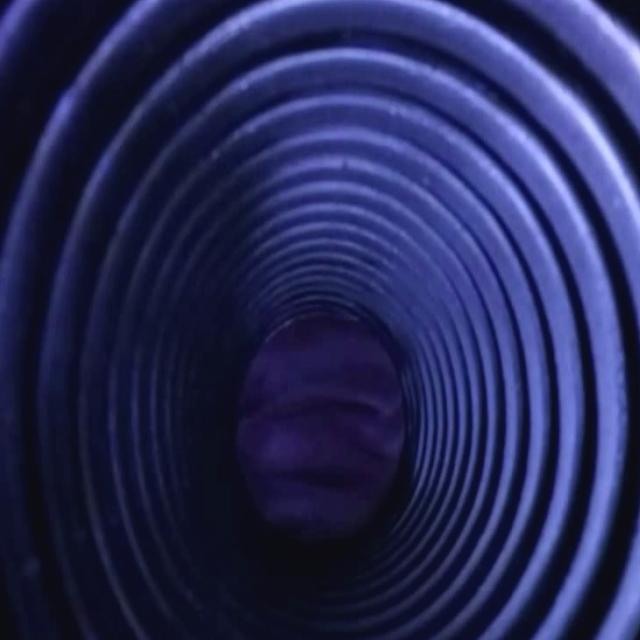block: (235, 314, 412, 542)
